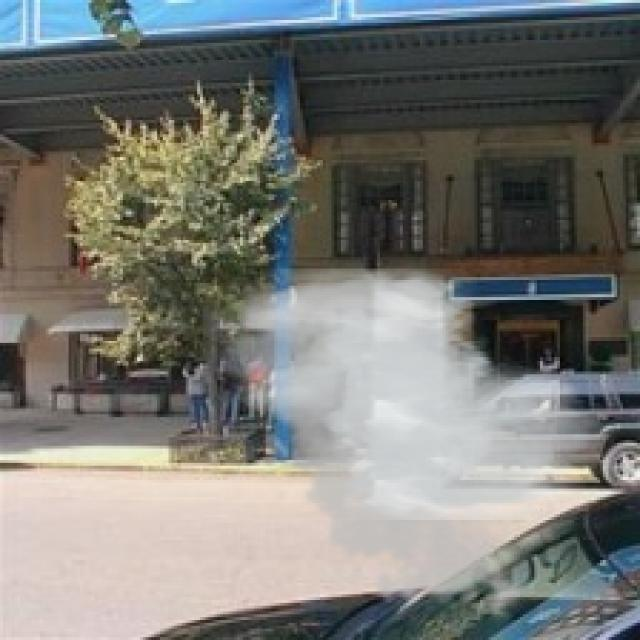smoke: (203, 268, 614, 626)
